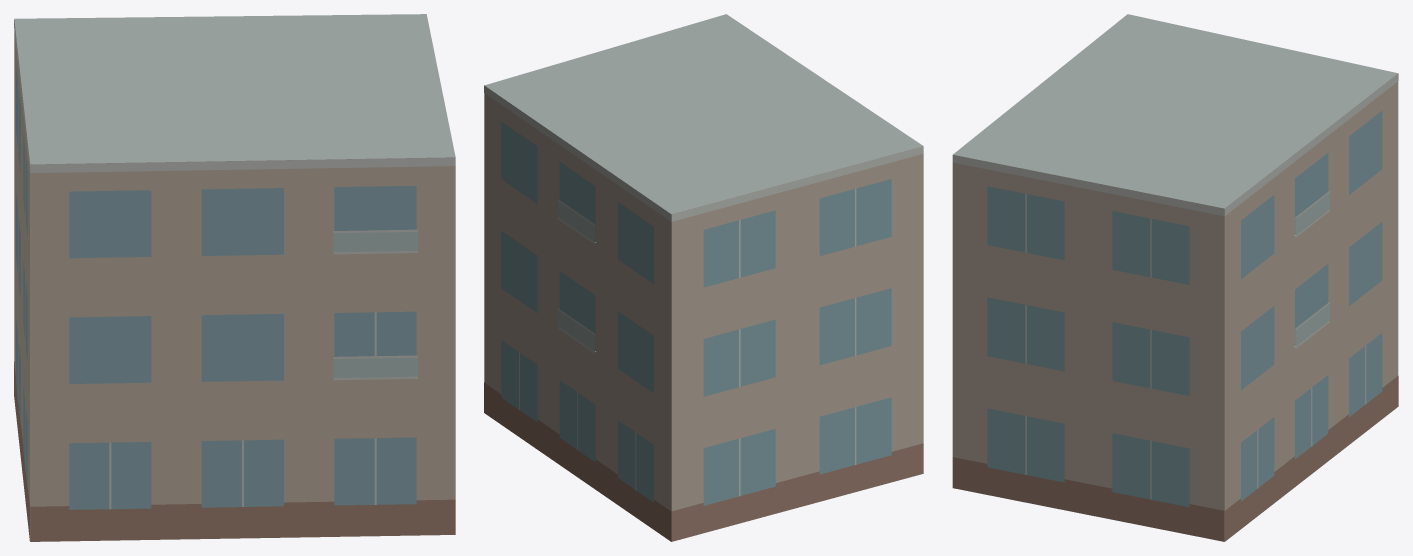
The model's file is survey-upis-32669237.glb.
3 renders of one model, left to right at view 1: azimuth 30°, elevation 25°; view 2: azimuth 150°, elevation 25°; view 3: azimuth 270°, elevation 25°, orthographic. The views are drawn at different scales.
Visible parts, largest first — view 1: survey-upis-32669237.tmp; view 2: survey-upis-32669237.tmp; view 3: survey-upis-32669237.tmp.
Boxes of the visible parts, x1=… form: survey-upis-32669237.tmp: x1=14, y1=14, x2=455, y2=541; survey-upis-32669237.tmp: x1=484, y1=14, x2=923, y2=541; survey-upis-32669237.tmp: x1=952, y1=14, x2=1398, y2=541.
Size of the model in its own units: 13.15 by 10.5 by 12.73.
